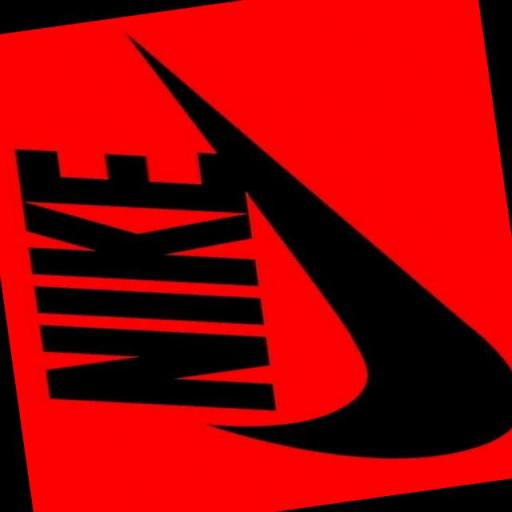Nike: (239, 103, 512, 475), (14, 117, 278, 441)
